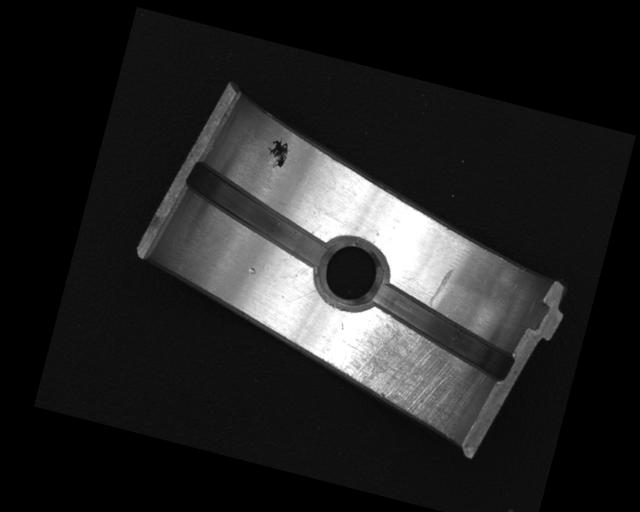blot: (261, 132, 292, 170)
bruise: (245, 265, 259, 275)
gap: (173, 157, 344, 271), (361, 279, 525, 383)
hole: (307, 233, 394, 317)
nick: (427, 264, 456, 311), (287, 282, 320, 309)
scratch: (324, 305, 491, 444)
